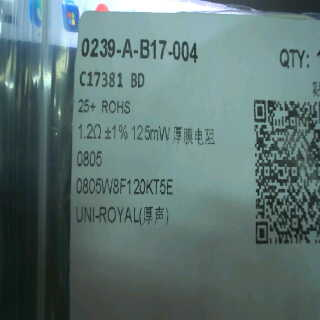1.2R: (74, 120, 103, 172)
